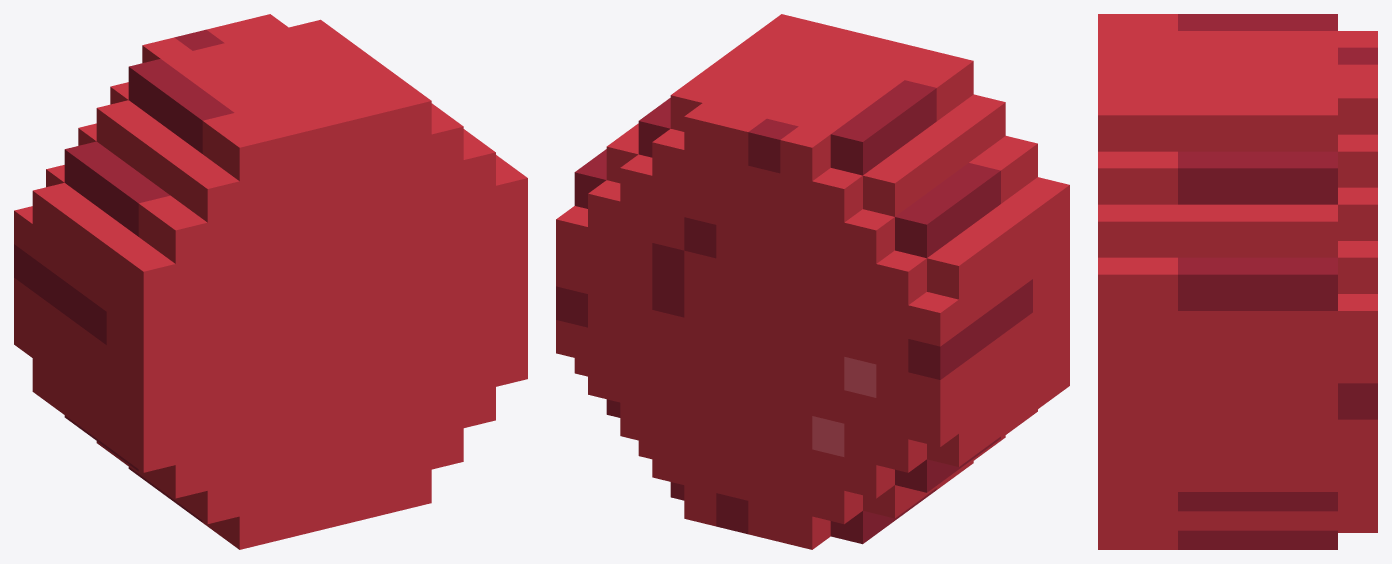
The model's file is BIGButton1.fbx.
3 renders of one model, left to right at view 1: azimuth 30°, elevation 25°; view 2: azimuth 150°, elevation 25°; view 3: azimuth 270°, elevation 25°, orthographic. The views are drawn at different scales.
Parts seen in each view (by area): view 1: BotonGordo; view 2: BotonGordo; view 3: BotonGordo.
Part boxes in pixels (x1=…): BotonGordo: x1=14, y1=14, x2=527, y2=549; BotonGordo: x1=556, y1=14, x2=1069, y2=549; BotonGordo: x1=1098, y1=14, x2=1377, y2=549.
Bounding box in the file's own units: 1200 × 1200 × 700.
